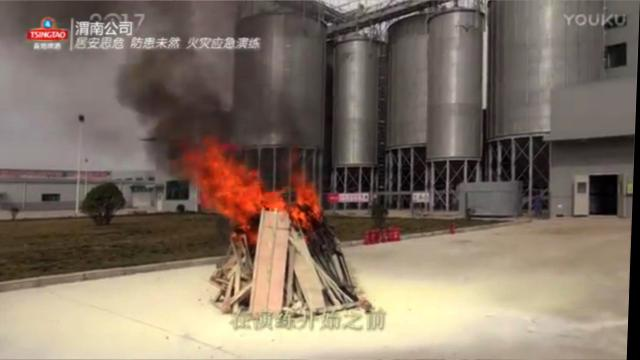fire: (192, 148, 237, 212), (227, 175, 259, 229), (291, 177, 314, 205), (263, 190, 287, 210), (292, 207, 310, 222)
